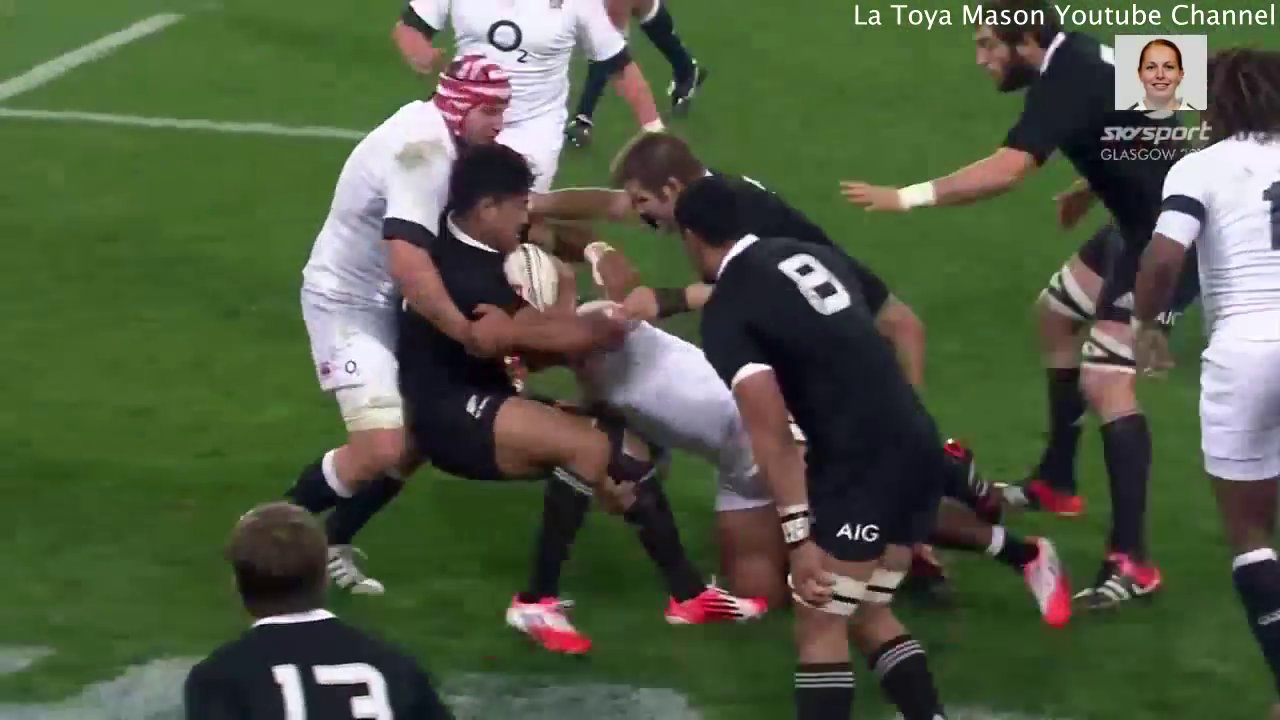player: (839, 1, 1214, 630), (415, 144, 761, 667), (677, 198, 970, 720), (238, 54, 510, 562), (1148, 41, 1280, 709), (161, 493, 488, 720)
